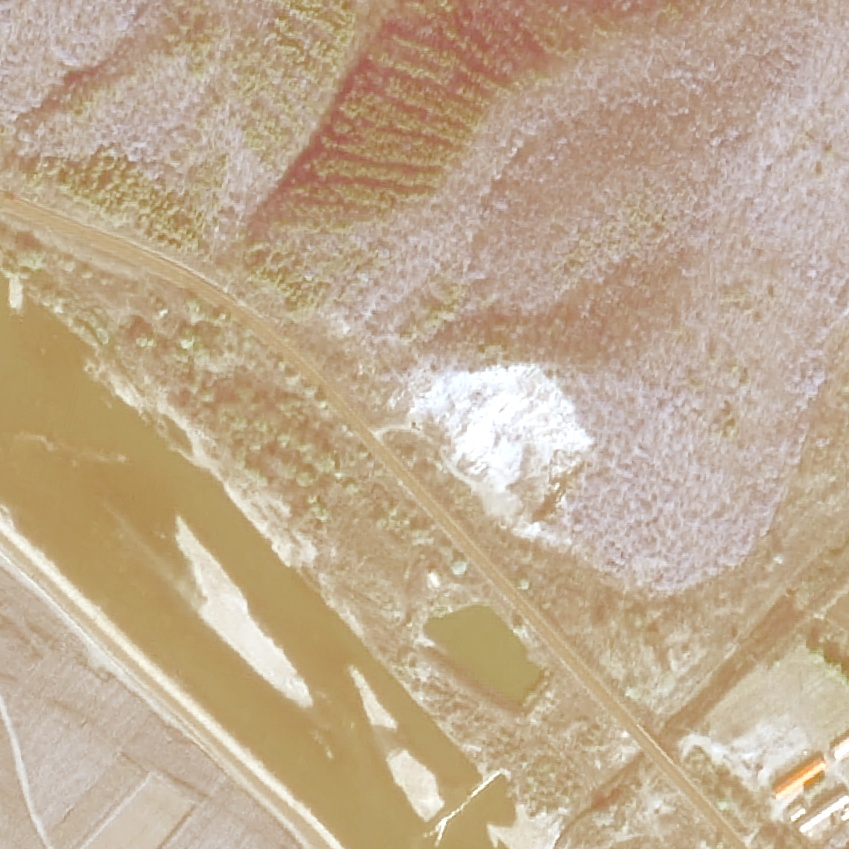slope: (396, 351, 594, 547)
